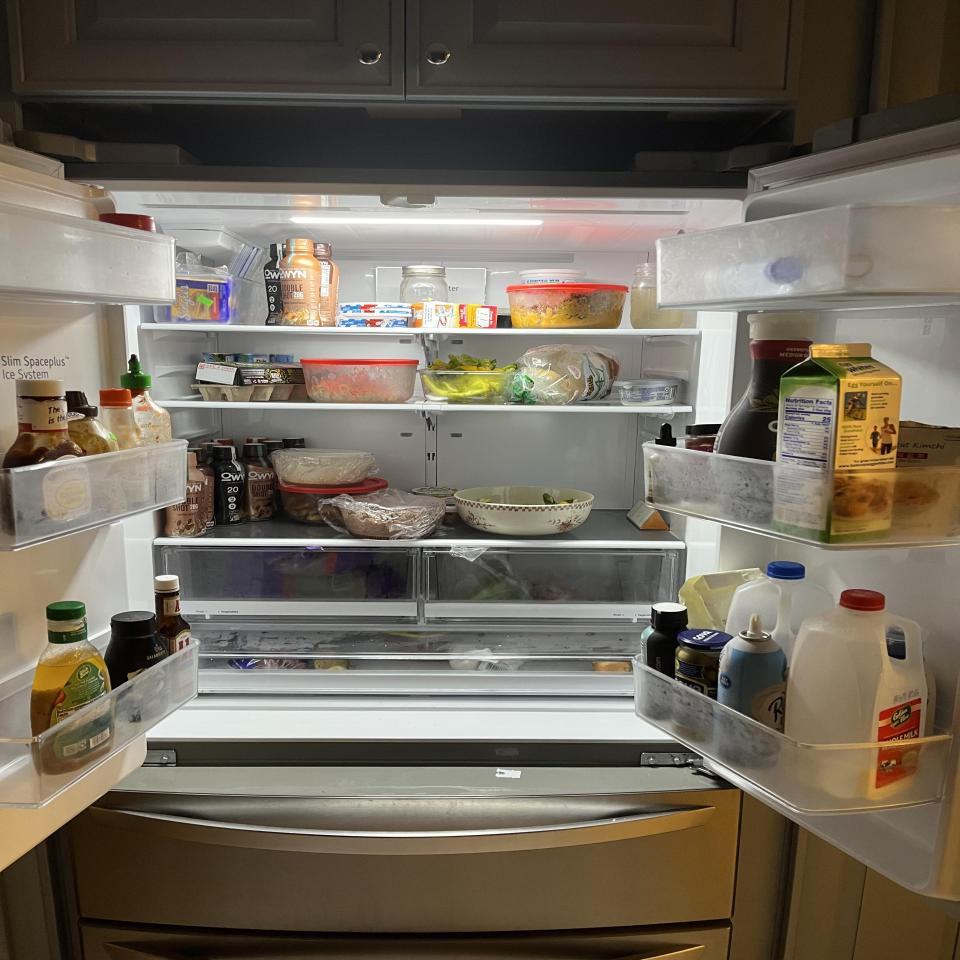Huevos: (189, 362, 309, 401)
Leche: (782, 590, 929, 802), (725, 561, 835, 658)
Queso: (166, 276, 235, 325)
Yogur: (517, 269, 588, 284)
